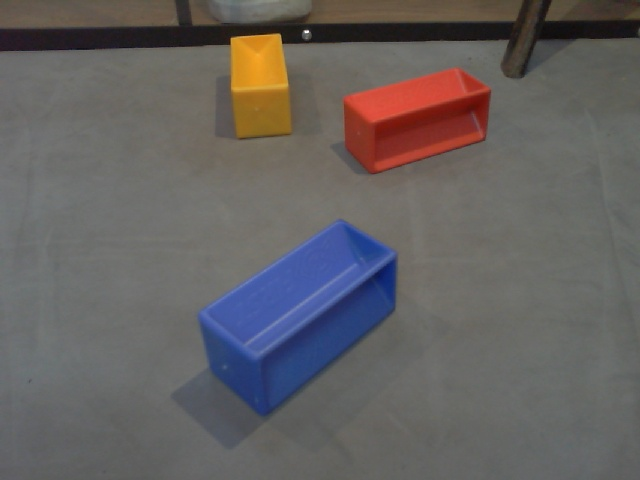BlueSample: (196, 214, 399, 421)
RedSample: (341, 65, 497, 175)
YellowSample: (224, 30, 296, 143)
